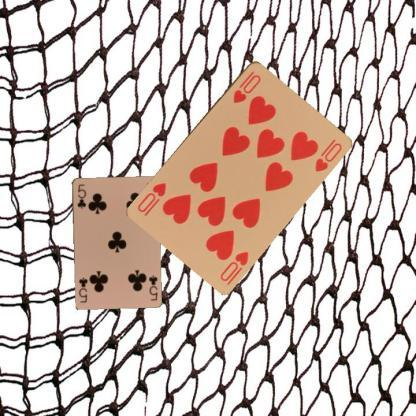10h: (230, 68, 262, 105), (217, 247, 250, 282)
5c: (74, 182, 88, 210), (146, 272, 158, 302)
